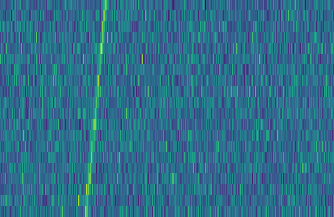signal: (79, 0, 108, 217)
